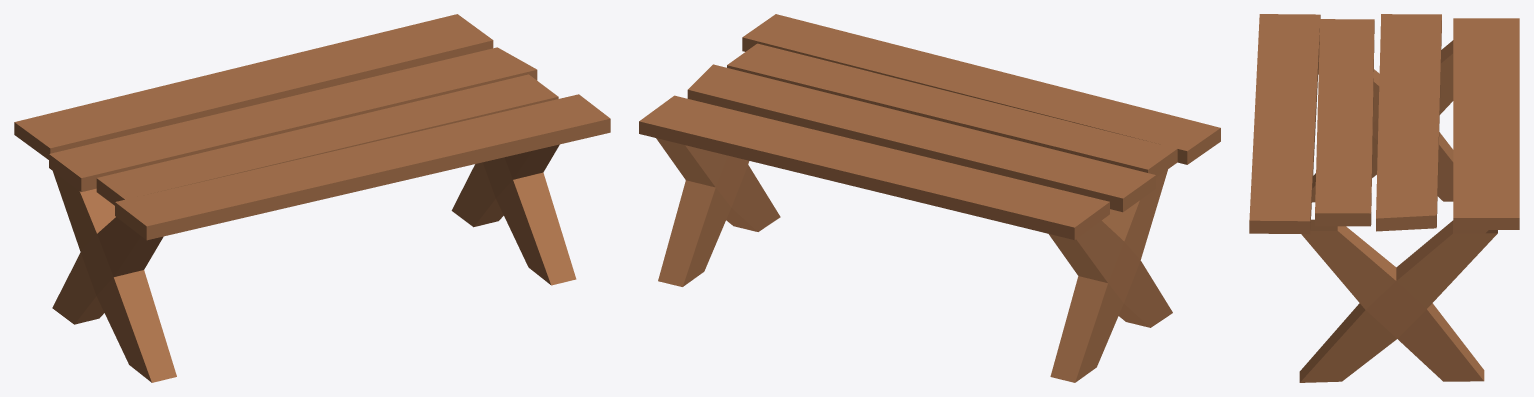
The model's file is Table_1.fbx.
3 views of the same model, side by side, from view 1: azimuth 30°, elevation 25°; view 2: azimuth 150°, elevation 25°; view 3: azimuth 270°, elevation 25° (orthographic). The views are drawn at different scales.
Visible parts, largest first — view 1: Table_1; view 2: Table_1; view 3: Table_1.
Part boxes in pixels (bbox=[...]): Table_1: bbox=[14, 14, 610, 382]; Table_1: bbox=[639, 14, 1220, 382]; Table_1: bbox=[1249, 14, 1519, 382].
Bounding box in the file's own units: 235 × 87.45 × 129.
